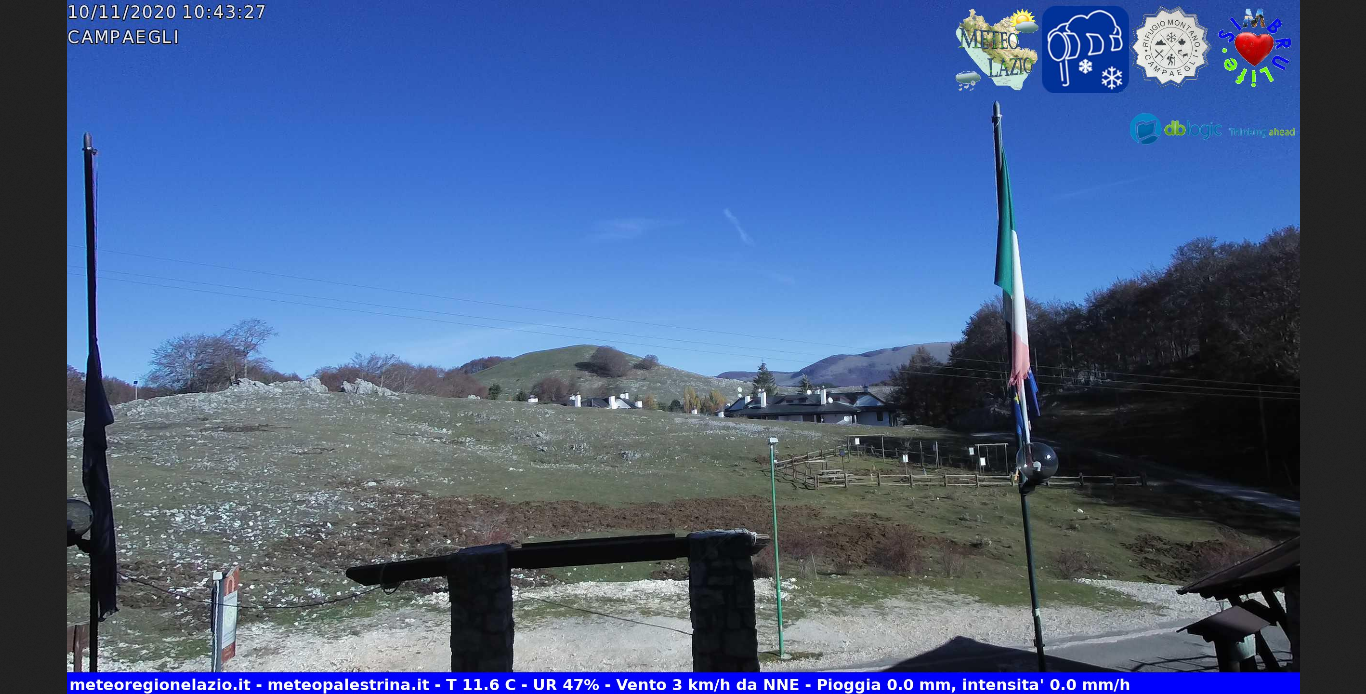no: (75, 123, 139, 634), (982, 92, 1058, 485)
